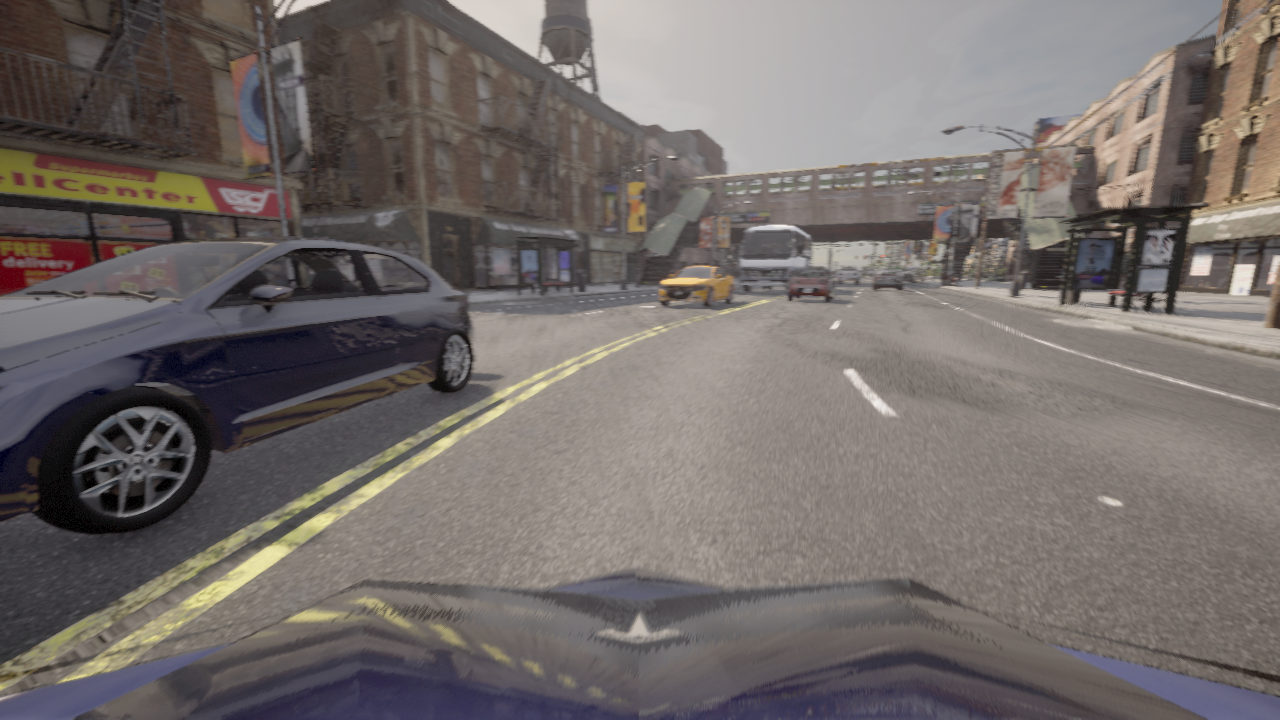cyclist: (0, 569, 1279, 719), (0, 237, 474, 534), (735, 224, 811, 292), (659, 265, 734, 307), (787, 267, 835, 302), (873, 270, 903, 290), (838, 266, 860, 284), (942, 273, 958, 285), (900, 271, 915, 282), (899, 271, 903, 272)
